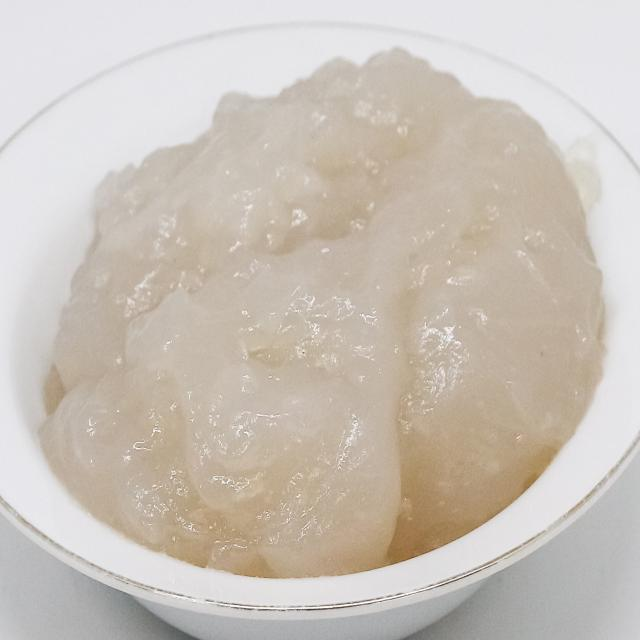Papeda: (32, 31, 612, 586)
